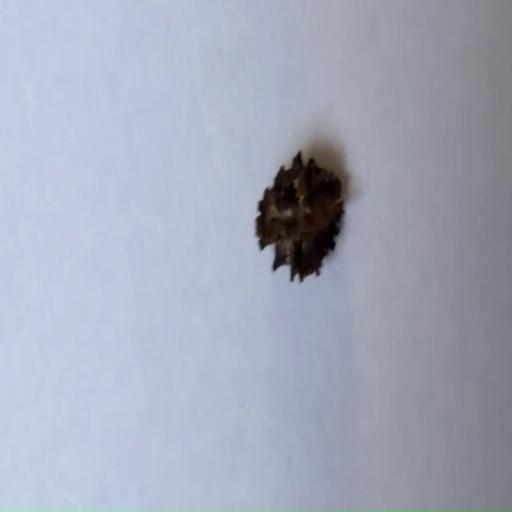papaya_seed: (244, 133, 364, 295)
